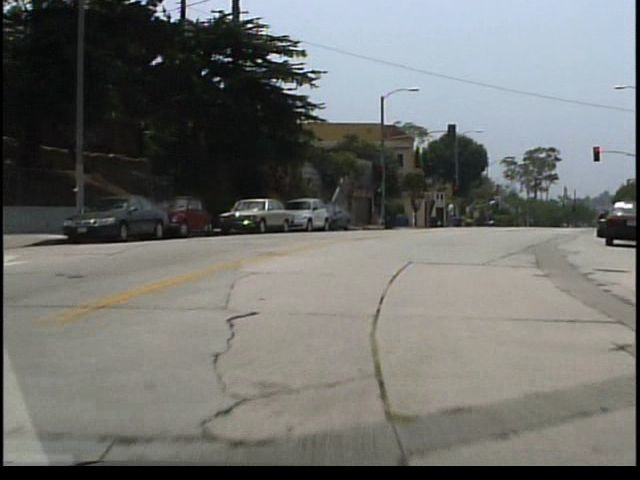person: (449, 202, 459, 230)
